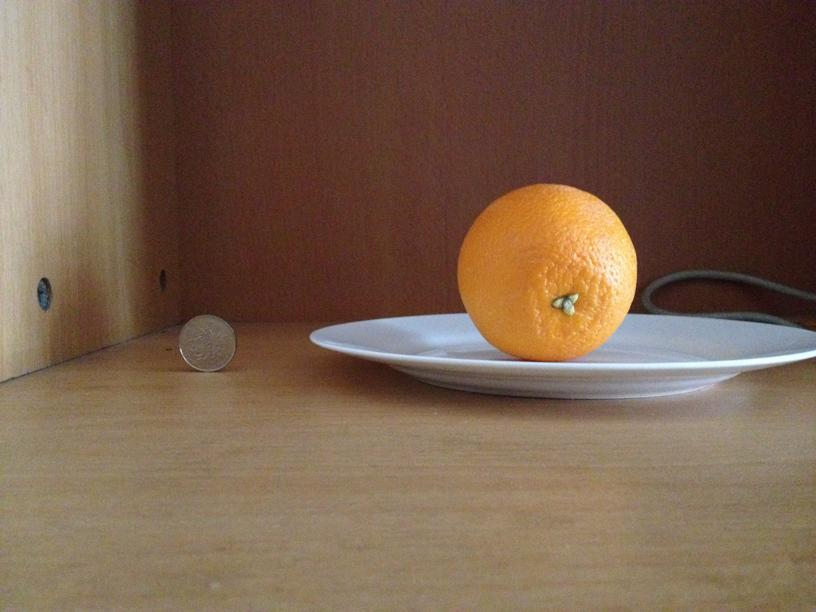coin: (176, 315, 235, 370)
orange: (450, 181, 636, 360)
